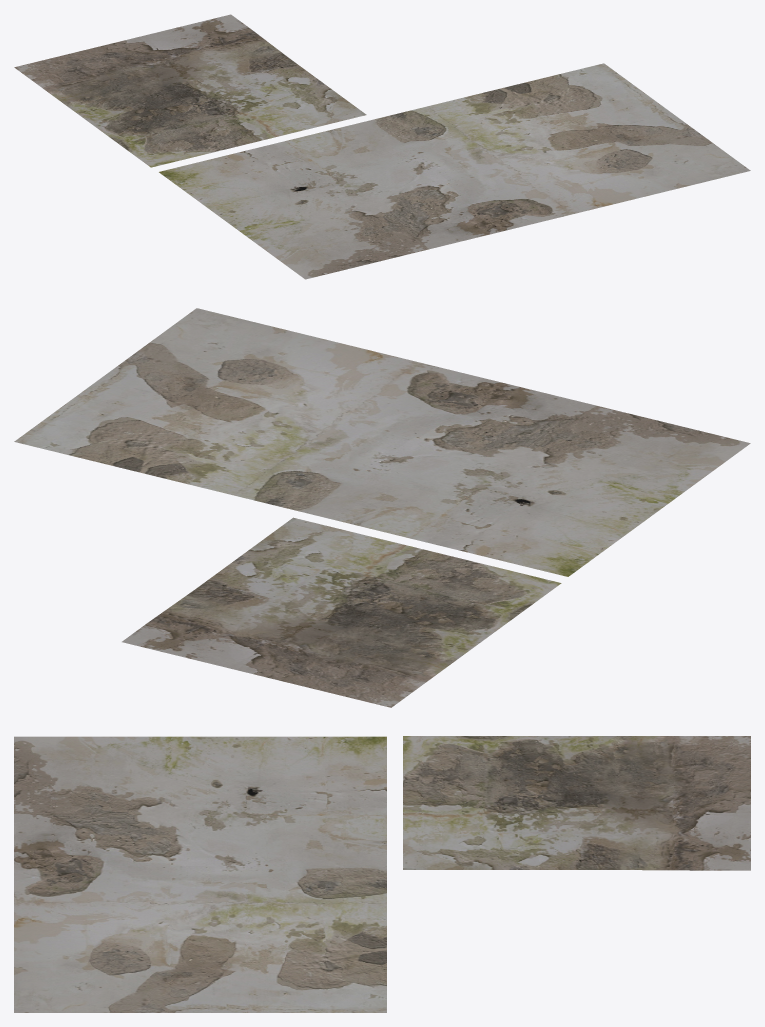
The model's file is RoofArea02_Ceiling.FBX.
3 views of the same model, one above another, from view 1: azimuth 30°, elevation 25°; view 2: azimuth 150°, elevation 25°; view 3: azimuth 270°, elevation 25° (orthographic). The views are drawn at different scales.
Parts seen in each view (by area): view 1: RoofArea02_Ceiling; view 2: RoofArea02_Ceiling; view 3: RoofArea02_Ceiling.
Part boxes in pixels (<box>): RoofArea02_Ceiling: <box>14,14,750,279</box>; RoofArea02_Ceiling: <box>14,308,750,707</box>; RoofArea02_Ceiling: <box>14,736,750,1012</box>.
Size of the model in its own units: 836 by 0.000488 by 941.
